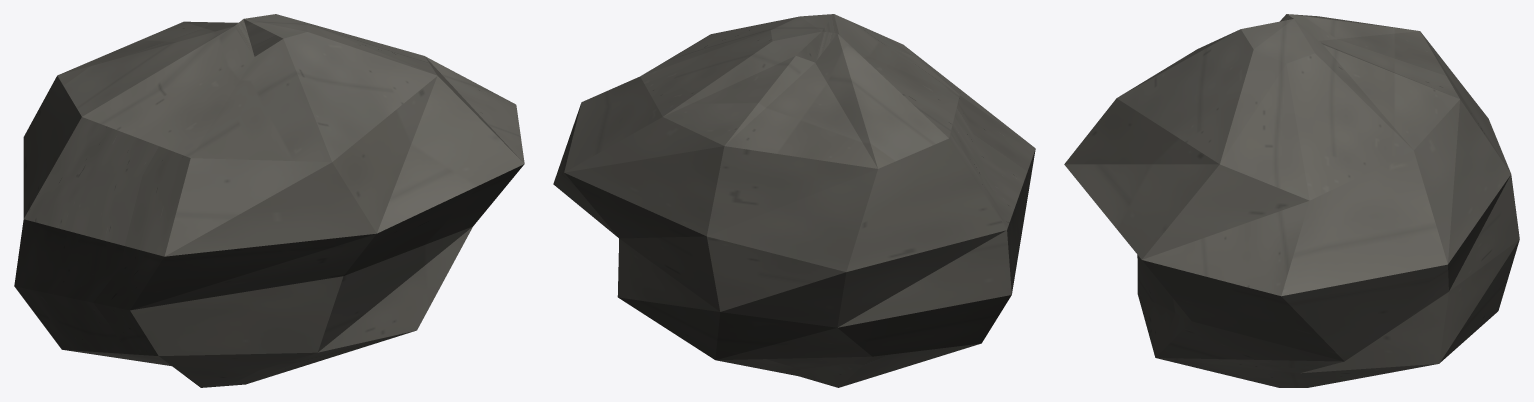
Rendered from DecorativeRockRoundBoulder.glb.
3 views of the same model, side by side, from view 1: azimuth 30°, elevation 25°; view 2: azimuth 150°, elevation 25°; view 3: azimuth 270°, elevation 25° (orthographic). The views are drawn at different scales.
Visible parts, largest first — view 1: DecorativeRockRoundBoulder; view 2: DecorativeRockRoundBoulder; view 3: DecorativeRockRoundBoulder.
Part boxes in pixels (x1,y1,x2,y2): DecorativeRockRoundBoulder: (14,14,524,387); DecorativeRockRoundBoulder: (553,14,1035,387); DecorativeRockRoundBoulder: (1064,14,1519,387).
Bounding box in the file's own units: 2.05 × 1.46 × 1.66.
3 materials, 3 textured.
